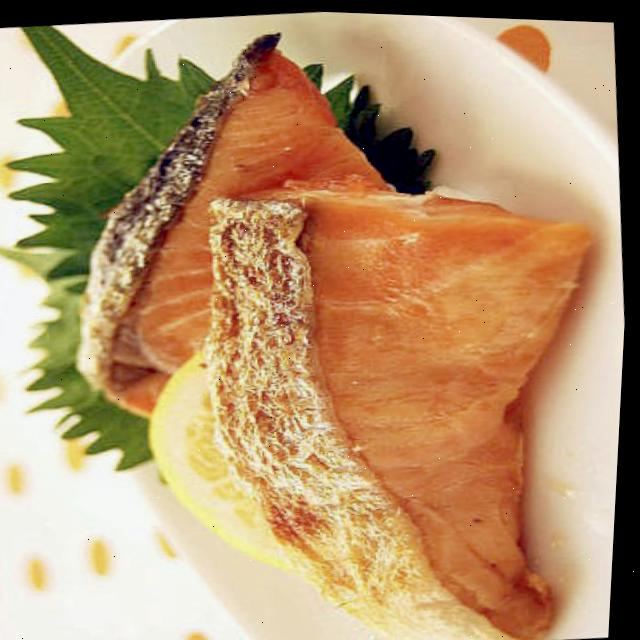熟制海鲜: (13, 5, 640, 640)
